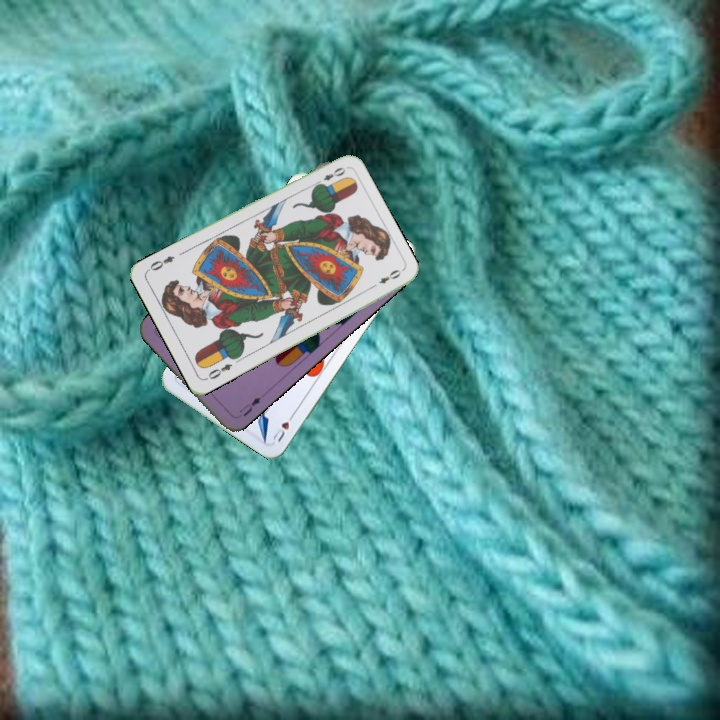EO: (311, 163, 348, 189), (202, 359, 235, 383)
EU: (235, 393, 263, 419)
HU: (268, 409, 298, 445)
